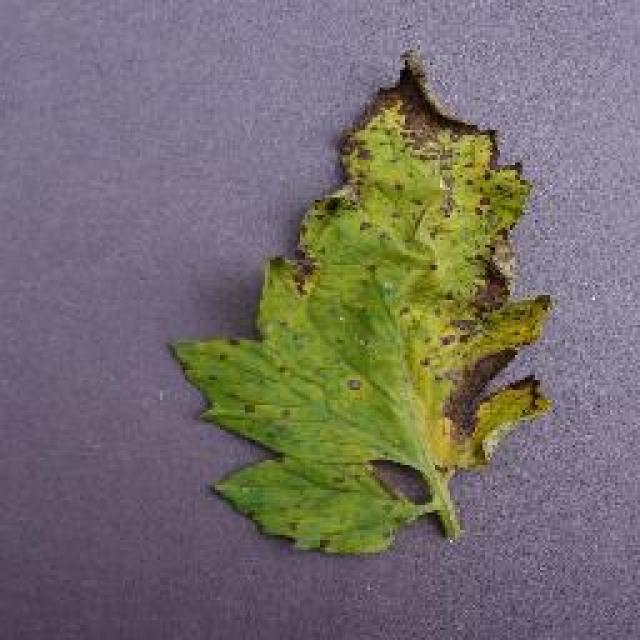Tomato Septoria spot leaf: (167, 50, 557, 555)
